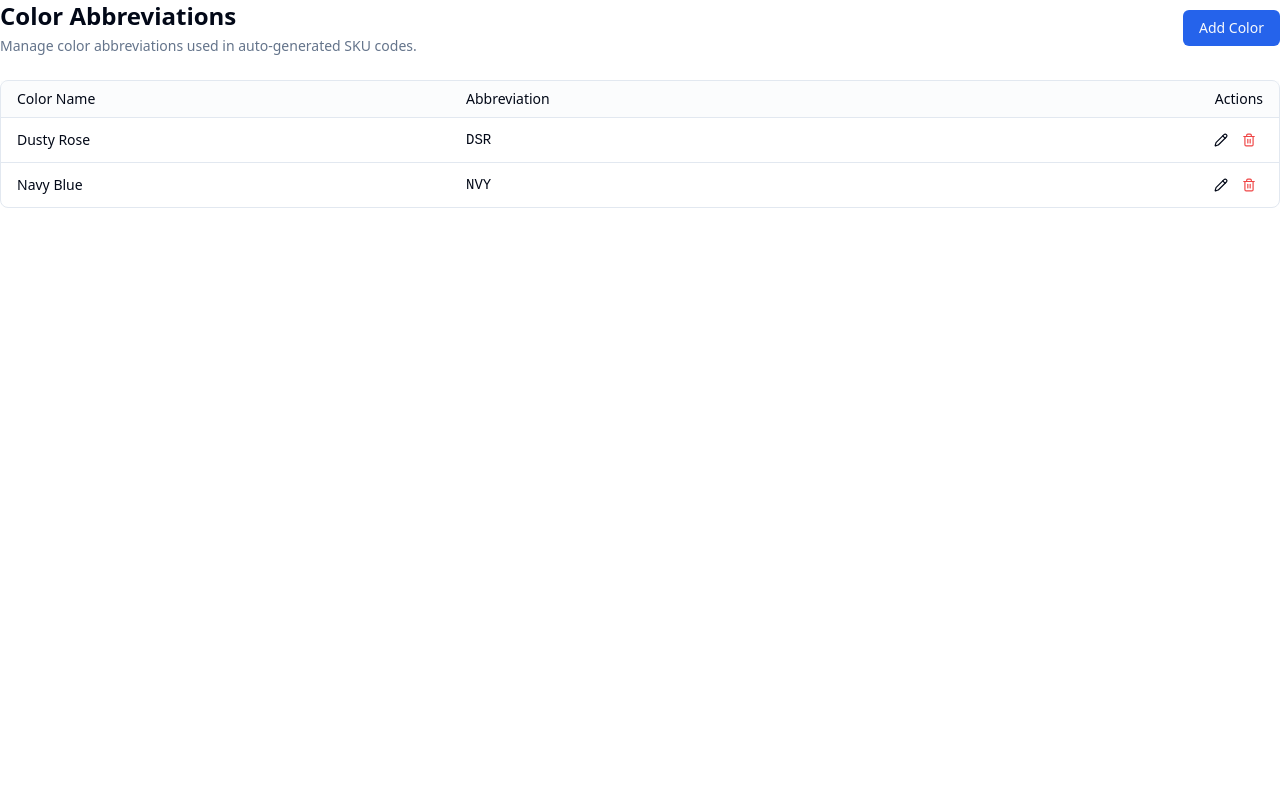
it: edit_populates_form_with_existing_values
What coordinates should you click on to do the following:
click the 2nd button
I would click on:
 (1221, 140)
Its box is [1207,126,1235,154].
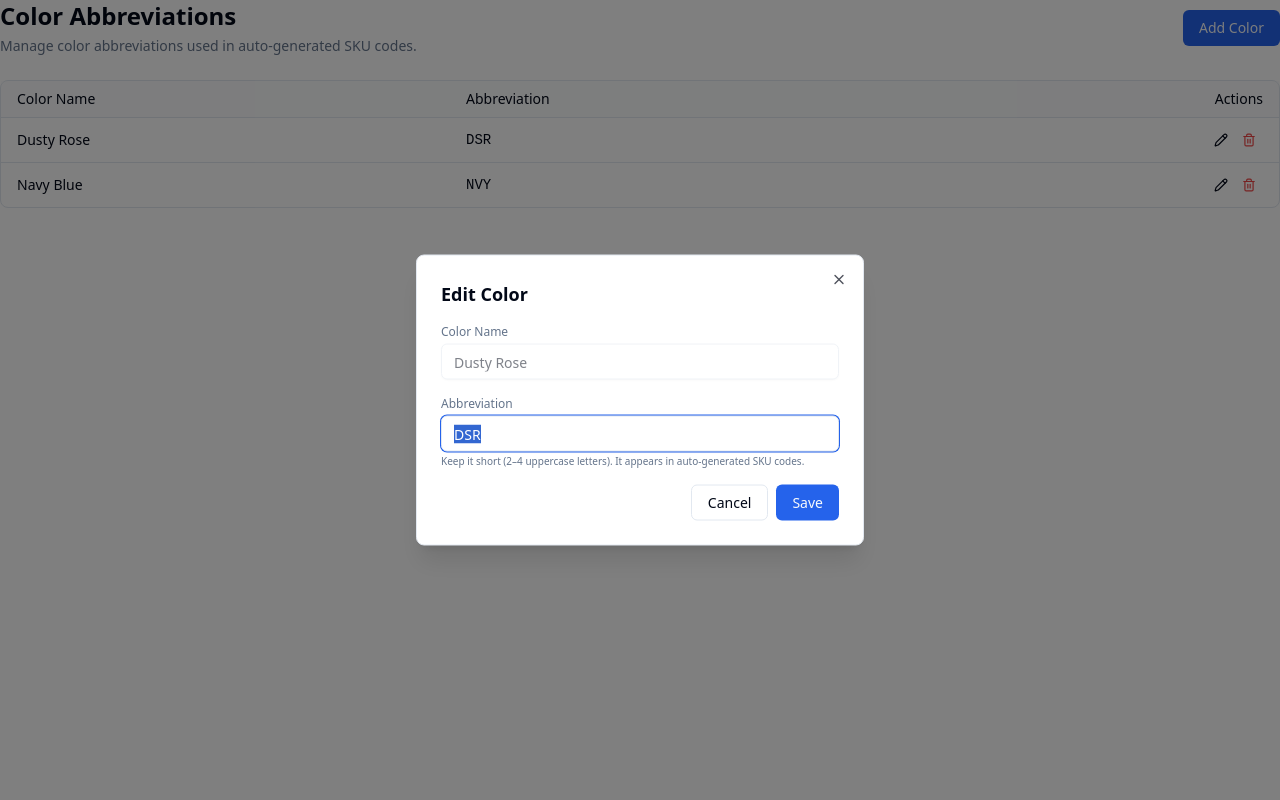
expect the field labelled "Color Name" holds "Dusty Rose": met, box [441,344,839,380]
expect the field labelled "Abbreviation" holds "DSR": met, box [441,416,839,452]
